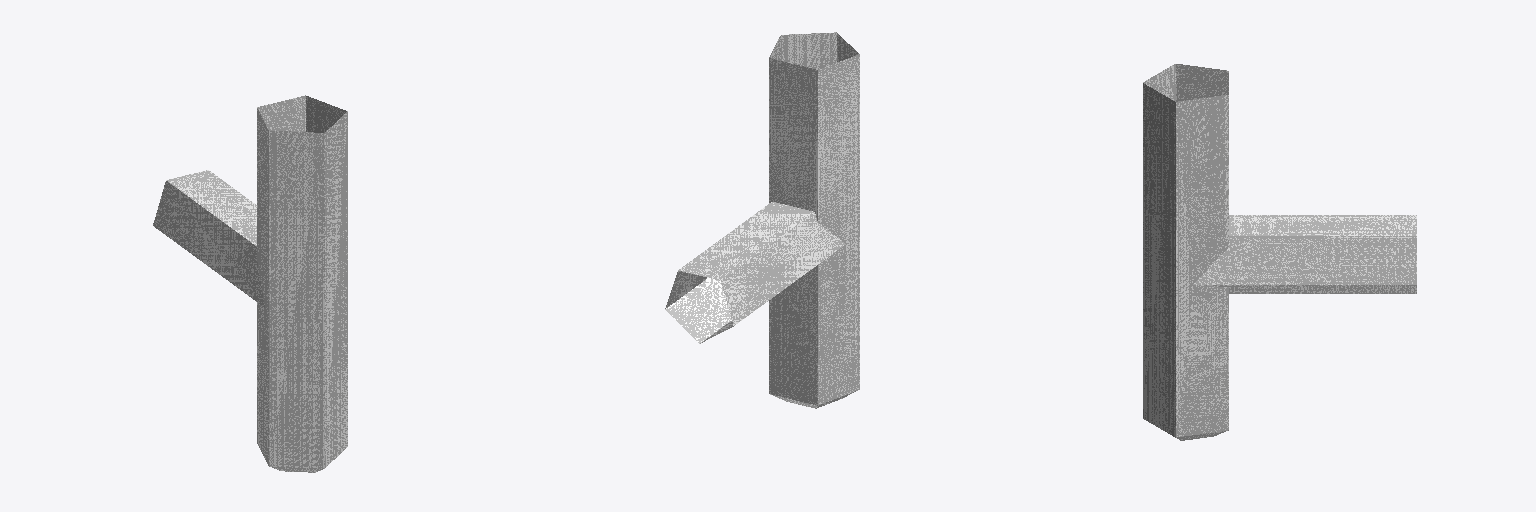
File: original-32.obj
3 renders of one model, left to right at view 1: azimuth 30°, elevation 25°; view 2: azimuth 150°, elevation 25°; view 3: azimuth 270°, elevation 25°, orthographic.
Visible parts, largest first — view 1: BP5a1/BP5a/mesh17/mesh17-geometry#mesh17-geometry; view 2: BP5a1/BP5a/mesh17/mesh17-geometry#mesh17-geometry; view 3: BP5a1/BP5a/mesh17/mesh17-geometry#mesh17-geometry.
Boxes of the visible parts, <box> form: BP5a1/BP5a/mesh17/mesh17-geometry#mesh17-geometry: <box>153,95,347,472</box>; BP5a1/BP5a/mesh17/mesh17-geometry#mesh17-geometry: <box>665,32,859,408</box>; BP5a1/BP5a/mesh17/mesh17-geometry#mesh17-geometry: <box>1143,64,1416,440</box>.
Bounding box in the file's own units: 0.0097 × 0.041 × 0.0294.